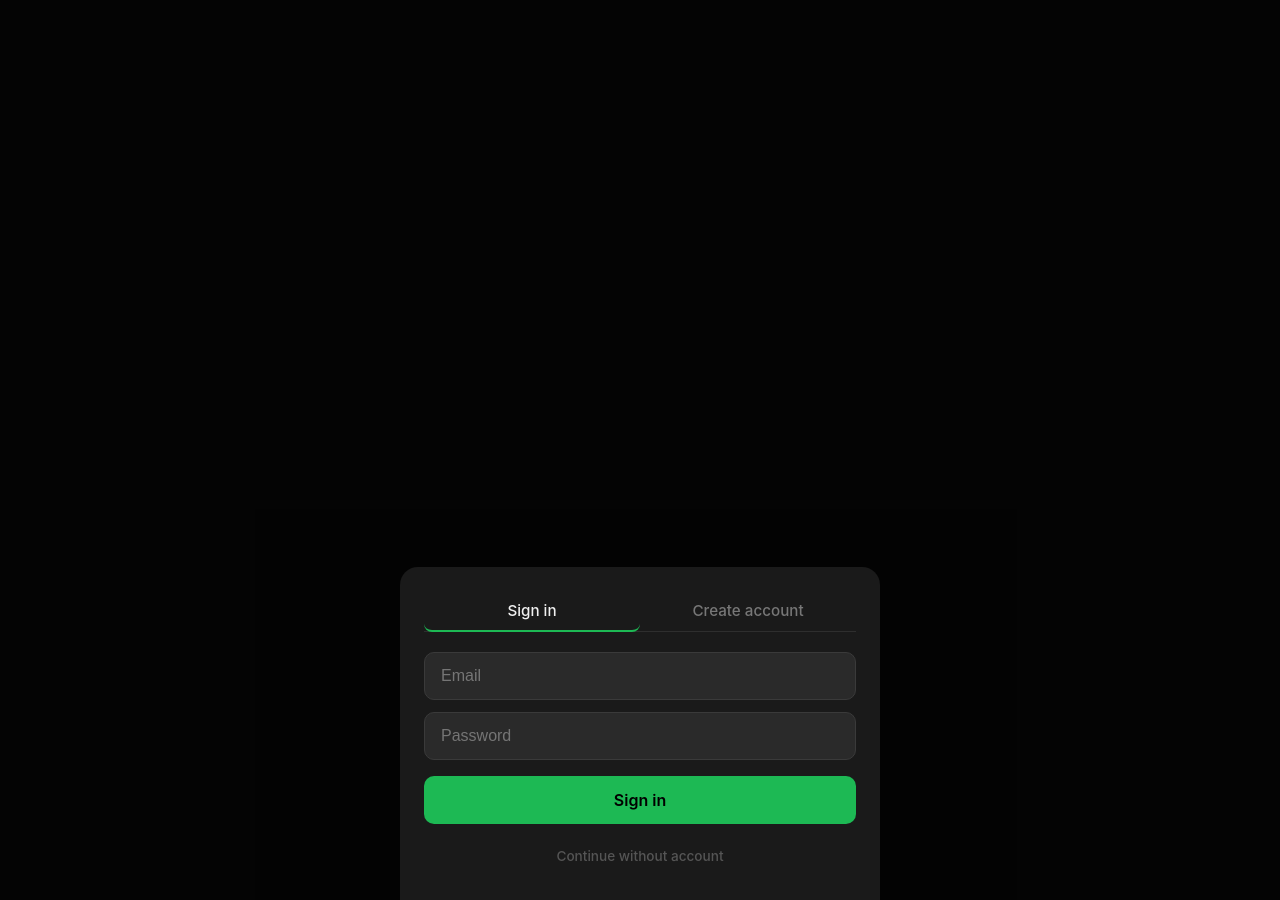
it: AuthModal › clears error when switching tabs
The image size is (1280, 900).
Type "a@b.com" into the field with placeholder "Email" at {"x": 640, "y": 676}, box [424, 652, 856, 700]
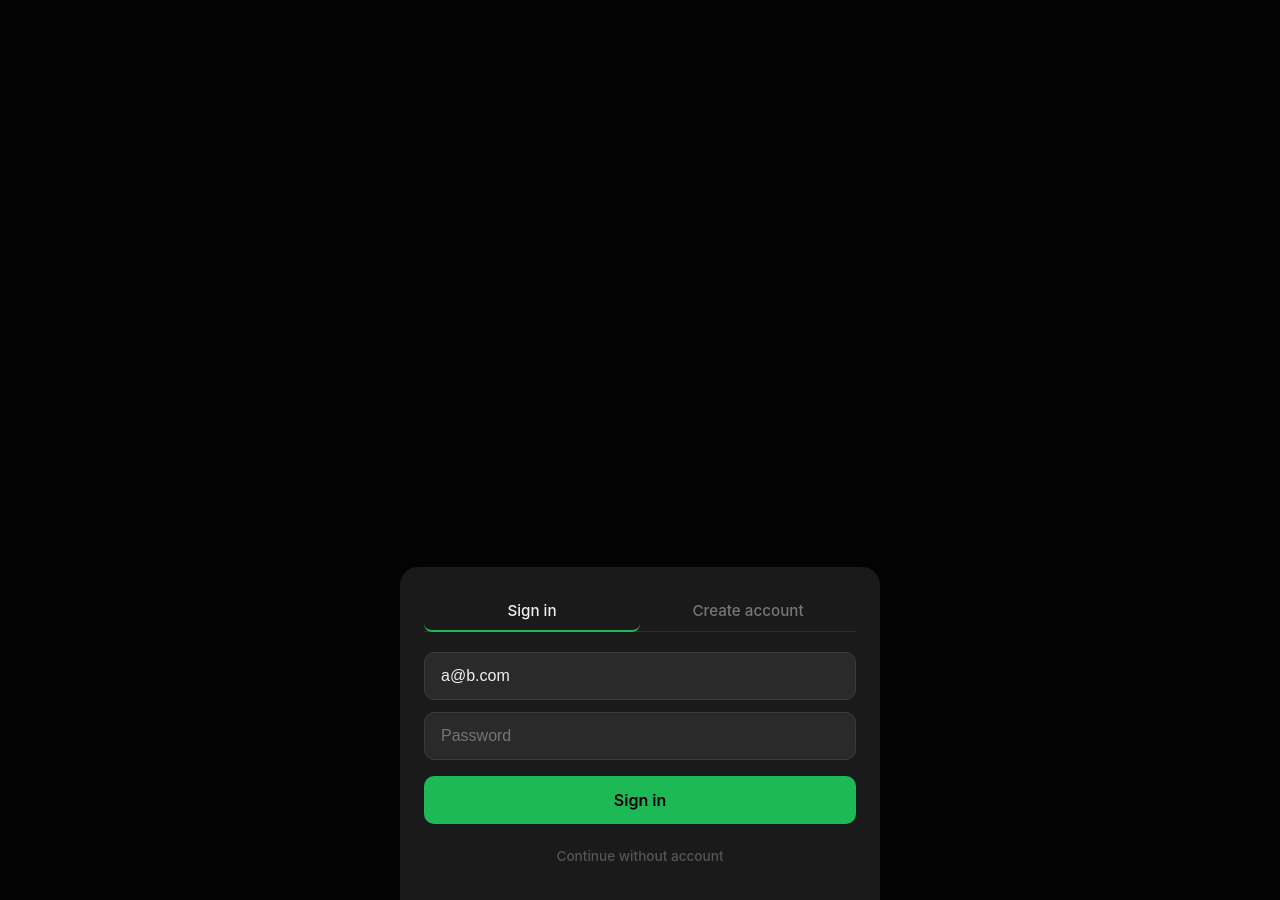
Type "wrong" into the password field with placeholder "Password" at {"x": 640, "y": 736}, box [424, 712, 856, 760]
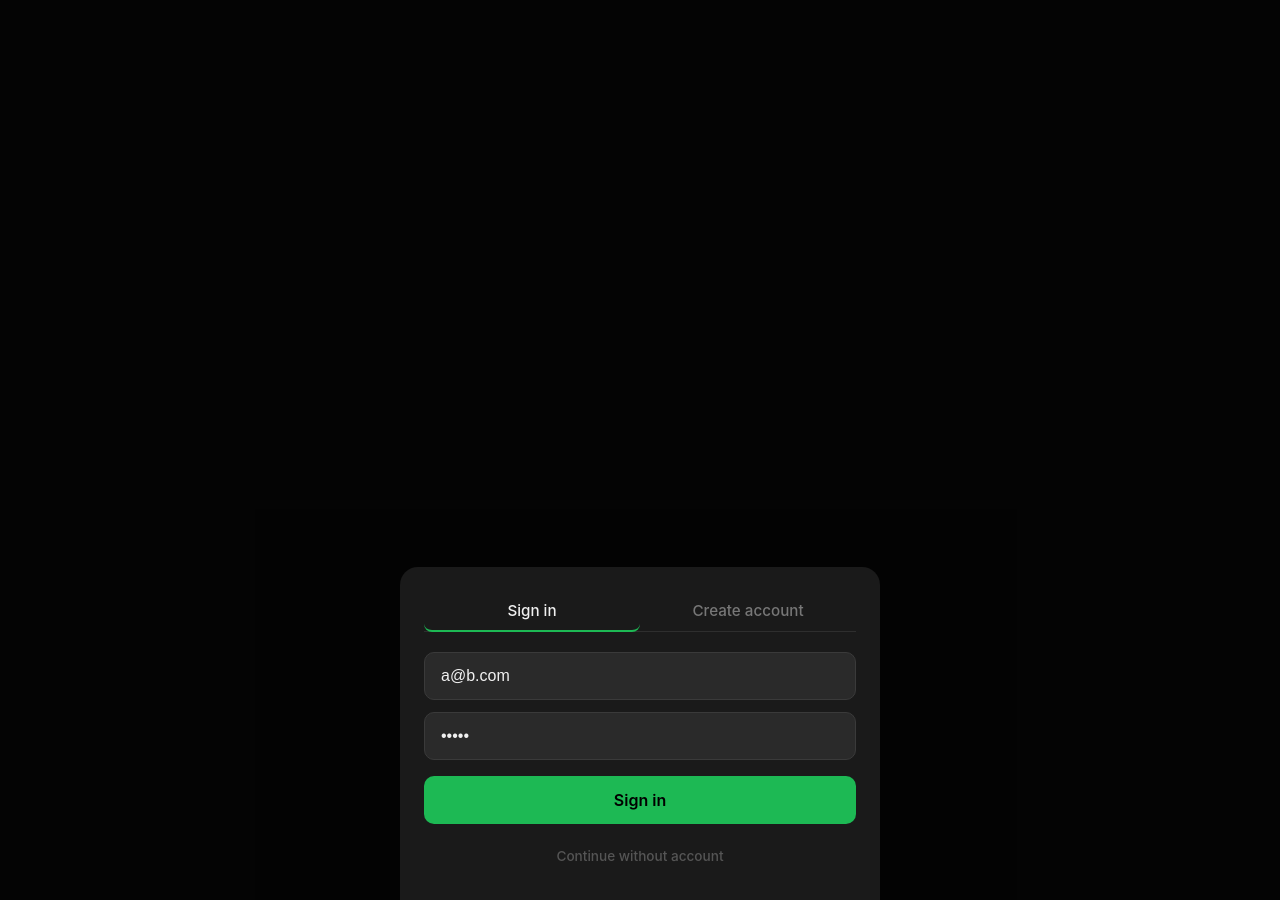
Submit the form with class "auth-form", box [424, 652, 856, 824]
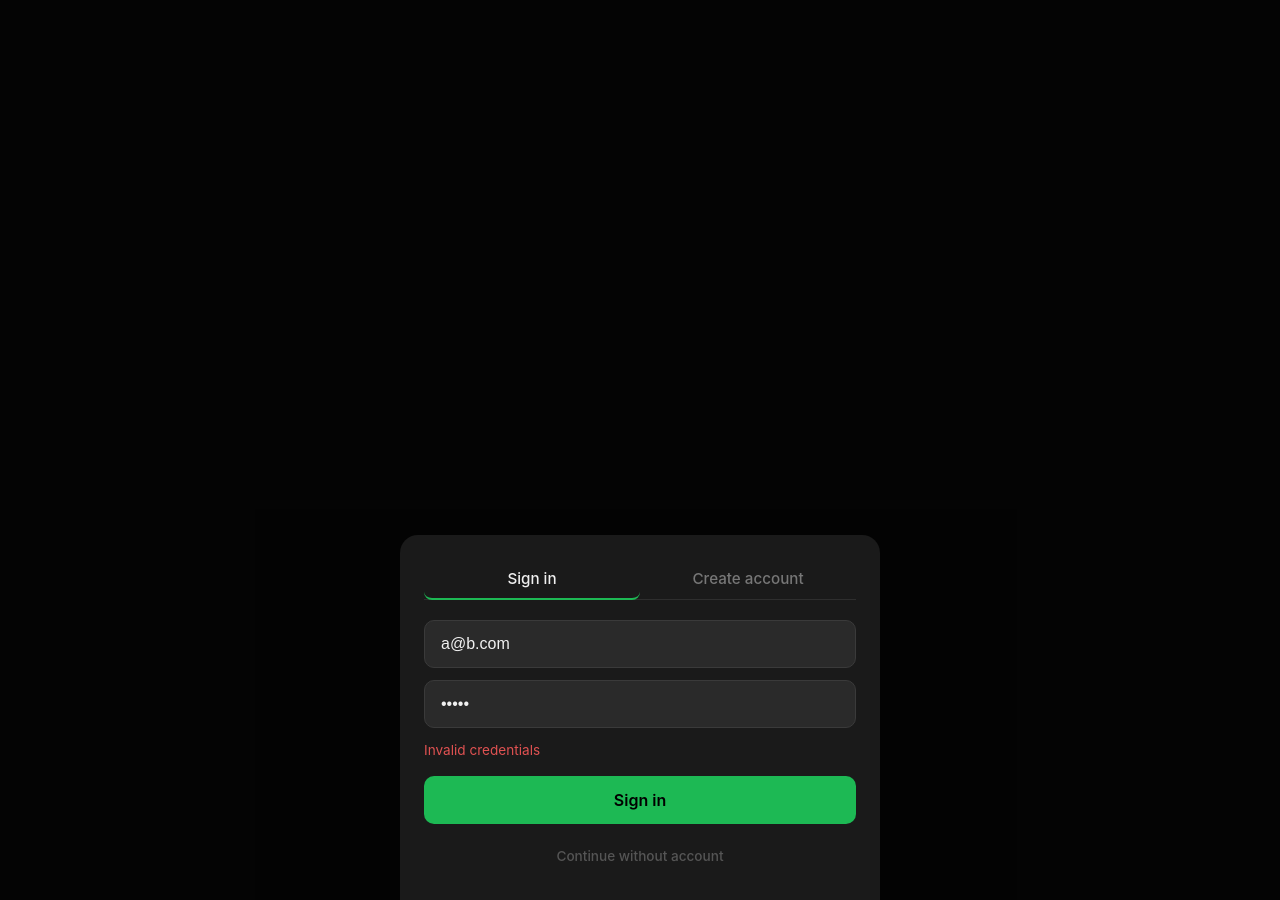
Now the text "Invalid credentials" is shown, box [424, 742, 540, 758]
Click the button "Create account" at {"x": 748, "y": 579}, box [640, 559, 856, 600]
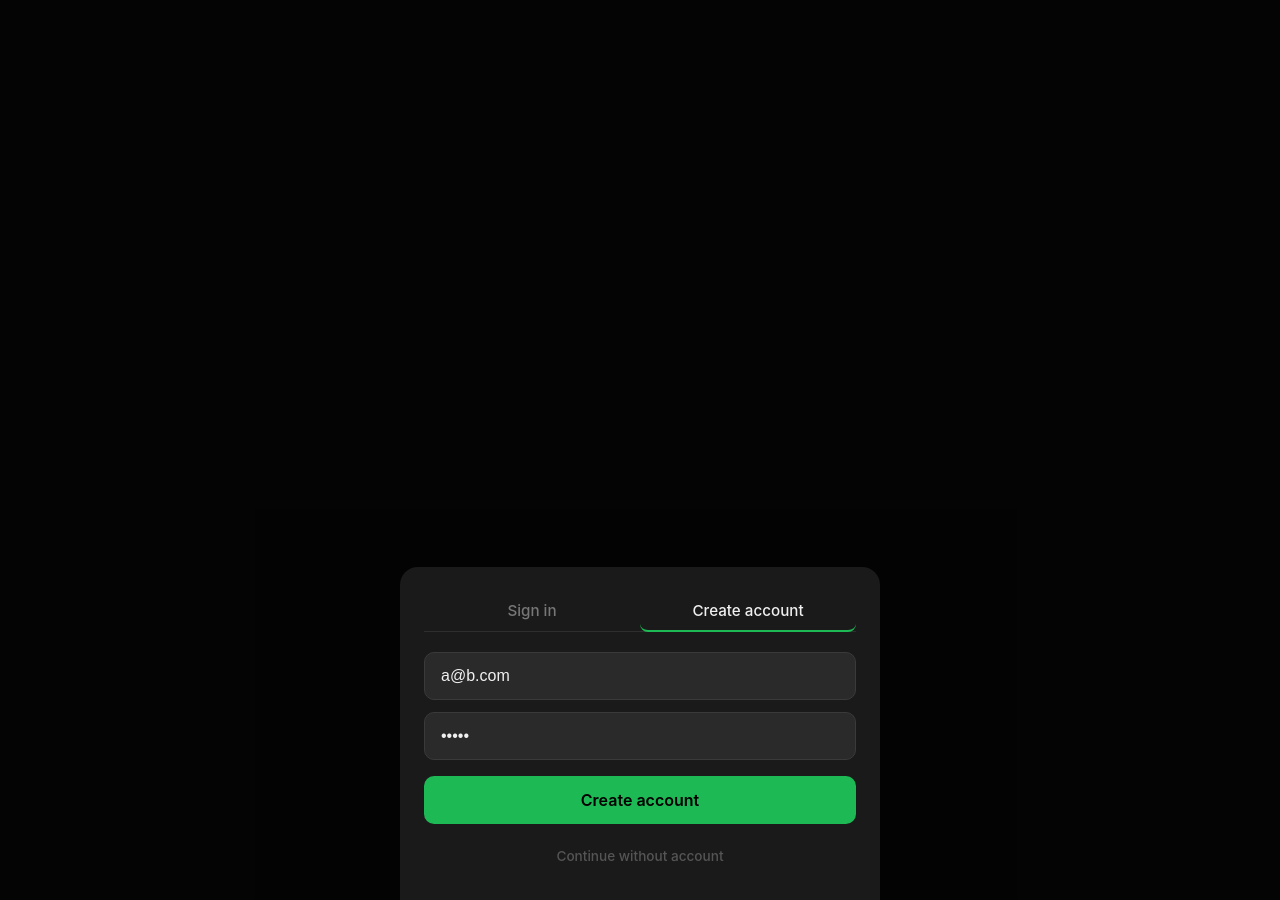
Now the text "Invalid credentials" is gone
